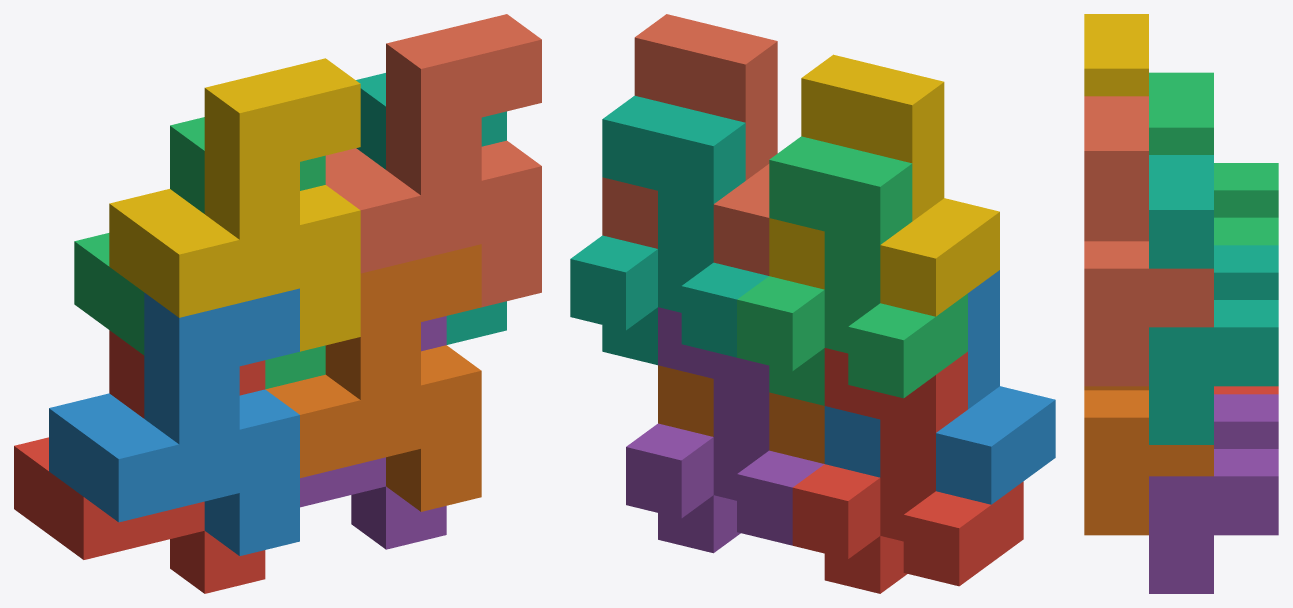
The model's file is tiling.obj.
3 renders of one model, left to right at view 1: azimuth 30°, elevation 25°; view 2: azimuth 150°, elevation 25°; view 3: azimuth 270°, elevation 25°, orthographic. The views are drawn at different scales.
Visible parts, largest first — view 1: copy_1_domain_4, copy_1_domain_2, copy_1_domain_8, copy_1_domain_6, copy_1_domain_1, copy_1_domain_3, copy_1_domain_5, copy_1_domain_7; view 2: copy_1_domain_3, copy_1_domain_7, copy_1_domain_1, copy_1_domain_4, copy_1_domain_5, copy_1_domain_8, copy_1_domain_2, copy_1_domain_6; view 3: copy_1_domain_7, copy_1_domain_8, copy_1_domain_5, copy_1_domain_6, copy_1_domain_3, copy_1_domain_4, copy_1_domain_1.
Boxes of the visible parts, box(x1,y1,x2,y2) form: copy_1_domain_4: box(109, 58, 360, 351); copy_1_domain_2: box(49, 288, 299, 555); copy_1_domain_8: box(325, 14, 541, 307); copy_1_domain_6: box(265, 244, 481, 511); copy_1_domain_1: box(14, 330, 265, 593); copy_1_domain_3: box(74, 117, 325, 389); copy_1_domain_5: box(300, 316, 446, 549); copy_1_domain_7: box(356, 73, 506, 344); copy_1_domain_3: box(737, 136, 967, 405); copy_1_domain_7: box(570, 95, 768, 365); copy_1_domain_1: box(792, 348, 1023, 593); copy_1_domain_4: box(769, 54, 999, 316); copy_1_domain_5: box(626, 307, 824, 553); copy_1_domain_8: box(602, 14, 777, 275); copy_1_domain_2: box(824, 270, 1055, 504); copy_1_domain_6: box(658, 365, 824, 463); copy_1_domain_7: box(1149, 155, 1278, 444); copy_1_domain_8: box(1084, 96, 1213, 386); copy_1_domain_5: box(1149, 394, 1278, 593); copy_1_domain_6: box(1084, 386, 1213, 535); copy_1_domain_3: box(1149, 72, 1278, 245); copy_1_domain_4: box(1084, 14, 1148, 96); copy_1_domain_1: box(1214, 386, 1278, 394).
Size of the model in its own units: 7 by 8 by 3.
